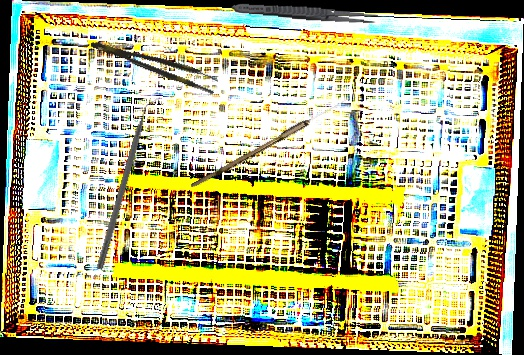Chopper: (96, 93, 162, 273)
Dressing Forceps: (230, 0, 383, 26)
Surgical Spoon: (190, 94, 351, 192)
Tissue Forceps: (89, 30, 220, 96)
